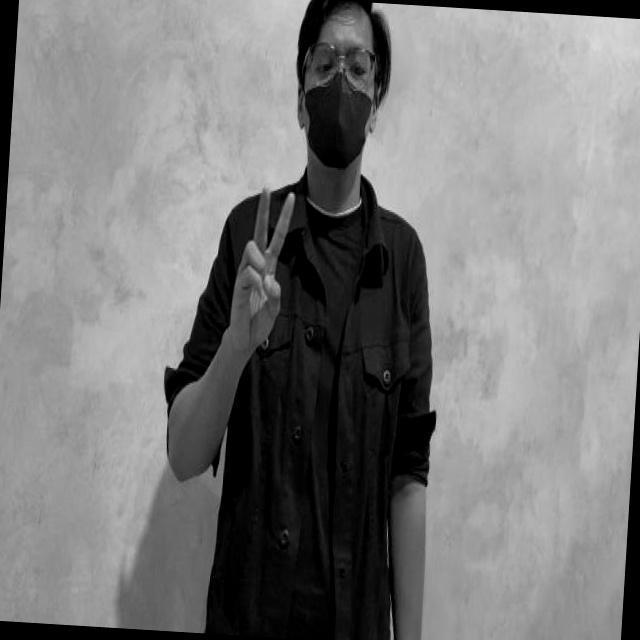V: (195, 166, 312, 368)
